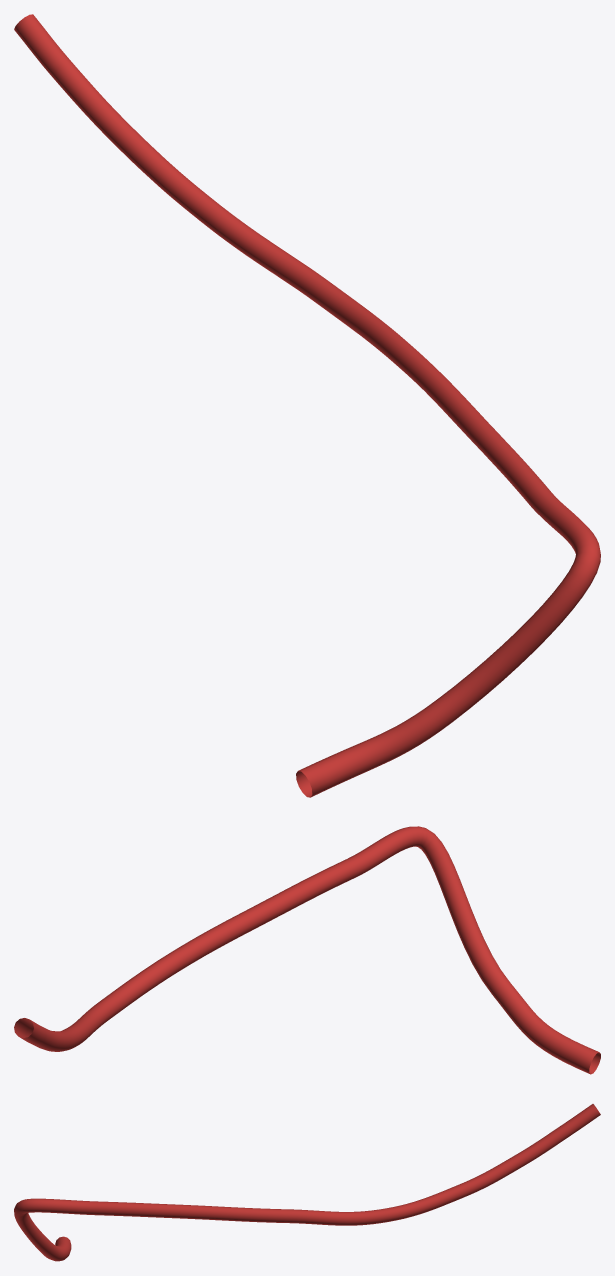
The picture shows the model from 3 angles, top to bottom: view 1: azimuth 30°, elevation 25°; view 2: azimuth 150°, elevation 25°; view 3: azimuth 270°, elevation 25°; orthographic projection. The views are drawn at different scales.
Parts seen in each view (by area): view 1: 右侧筛后动脉鼻中隔支; view 2: 右侧筛后动脉鼻中隔支; view 3: 右侧筛后动脉鼻中隔支.
Boxes of the visible parts, <box> form: 右侧筛后动脉鼻中隔支: <box>14,14,600,797</box>; 右侧筛后动脉鼻中隔支: <box>14,826,600,1074</box>; 右侧筛后动脉鼻中隔支: <box>14,1104,600,1261</box>.
Size of the model in its own units: 0.0132 by 0.0144 by 0.0376.
